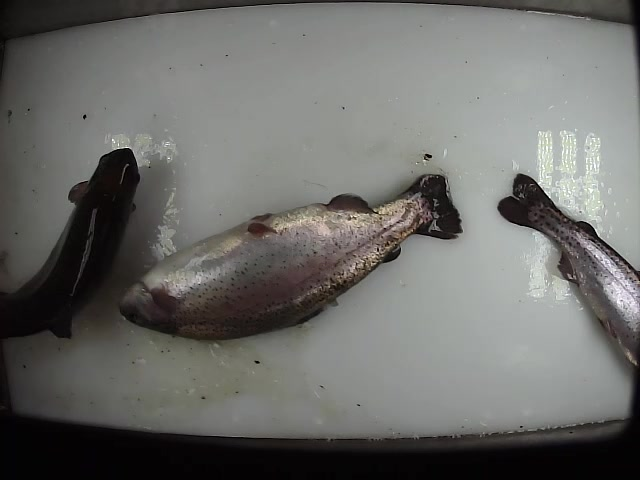fish: (118, 171, 466, 343), (1, 144, 143, 343), (495, 171, 639, 366)
